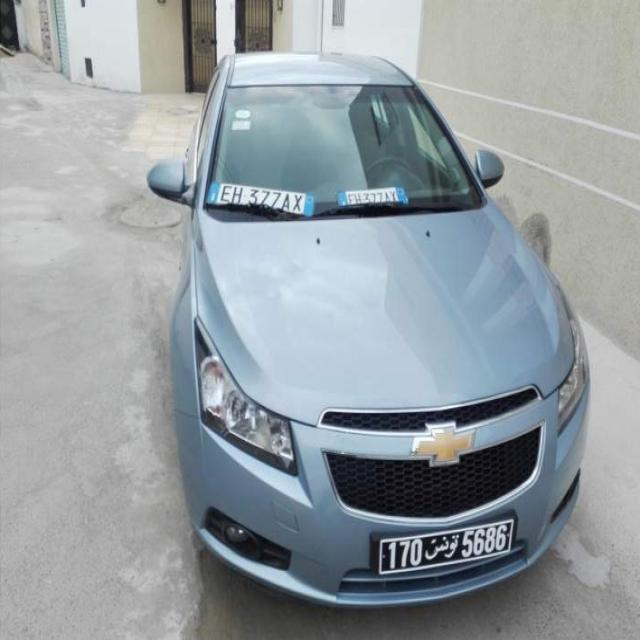licence plate: (381, 523, 511, 571)
